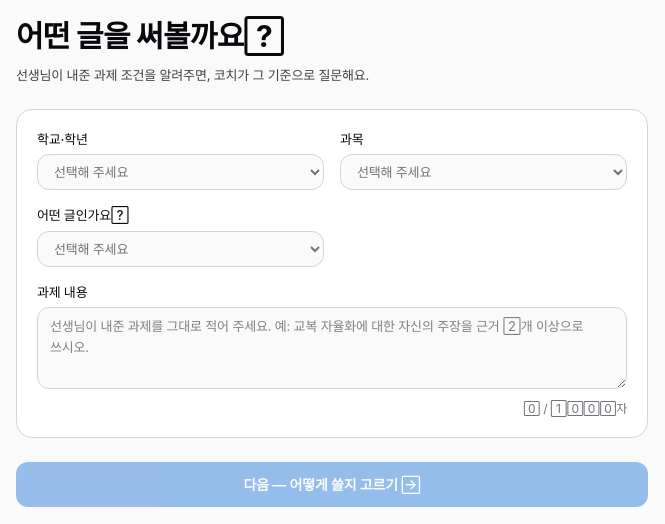
Test case: CoachSetupFlow › 모드 선택에서 '과제 다시 입력'으로 돌아오면 입력한 과제 내용이 복원됨
The image size is (665, 524).
Select "중2" in the dropdown labelled "학교·학년" at x=180, y=172, box x1=37 y1=154 x2=324 y2=190
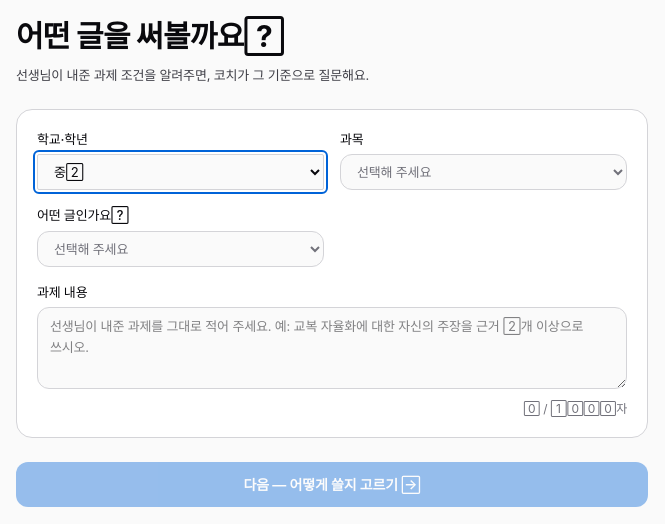
Select "과학" in the dropdown labelled "과목" at x=484, y=172, box x1=340 y1=154 x2=627 y2=190
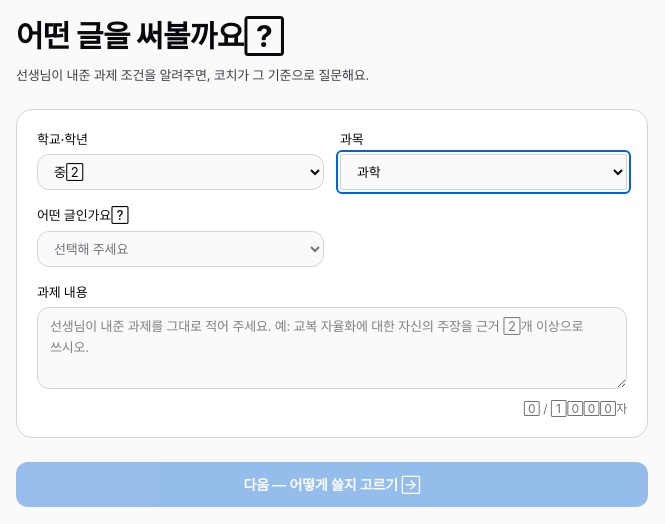
Select "설명문" in the dropdown labelled "어떤 글인가요?" at x=180, y=249, box x1=37 y1=231 x2=324 y2=267
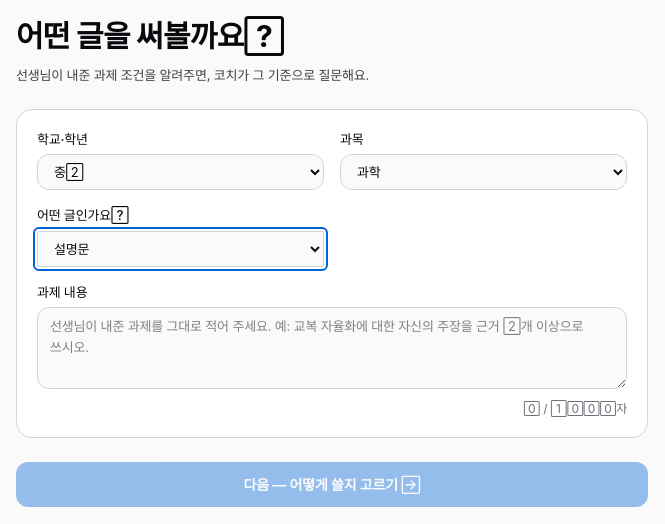
Replace the text in the text box labelled "과제 내용" with "교복 자율화에 대한 자신의 주장을 근거 2개 이상으로 쓰시오" at x=332, y=348, box x1=37 y1=307 x2=627 y2=389
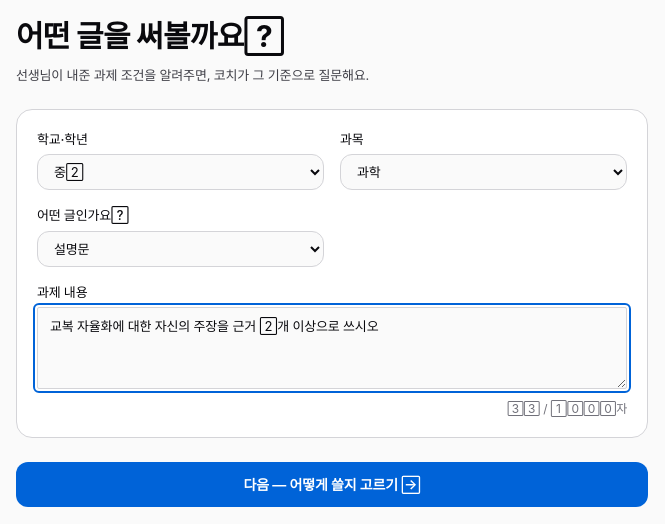
Click the button "다음 — 어떻게 쓸지 고르기 →".
click(332, 484)  # box x1=16 y1=462 x2=648 y2=507
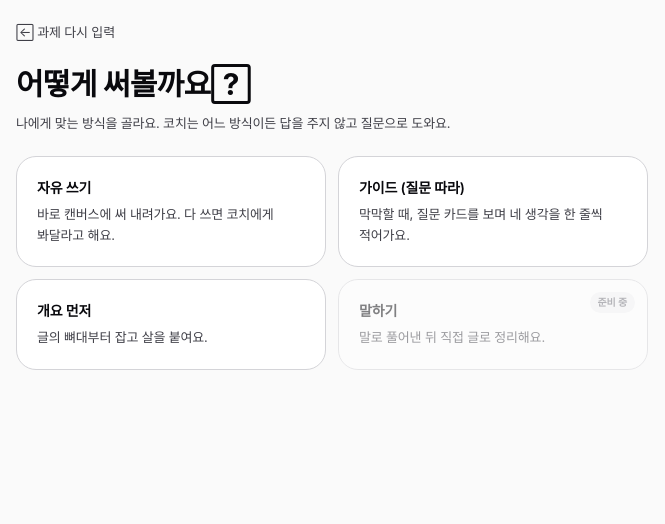
# 모드 선택 단계 → '과제 다시 입력'(onBack)
Click the button "← 과제 다시 입력".
click(65, 32)  # box x1=16 y1=23 x2=115 y2=42
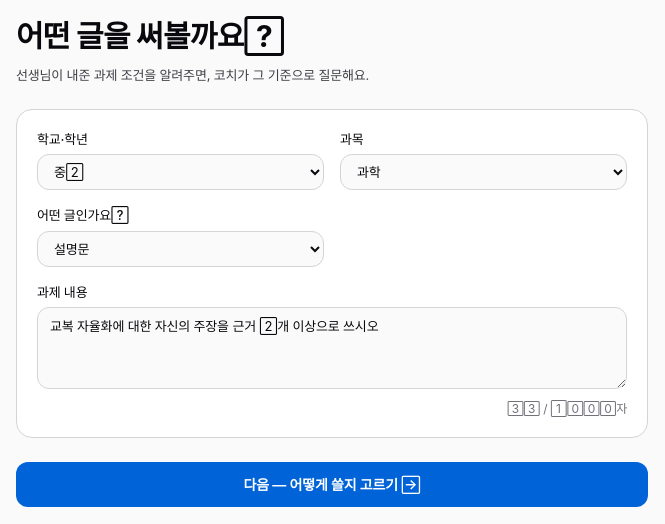
Expected: the text box labelled "과제 내용" holds "교복 자율화에 대한 자신의 주장을 근거 2개 이상으로 쓰시오", x1=37 y1=307 x2=627 y2=389
